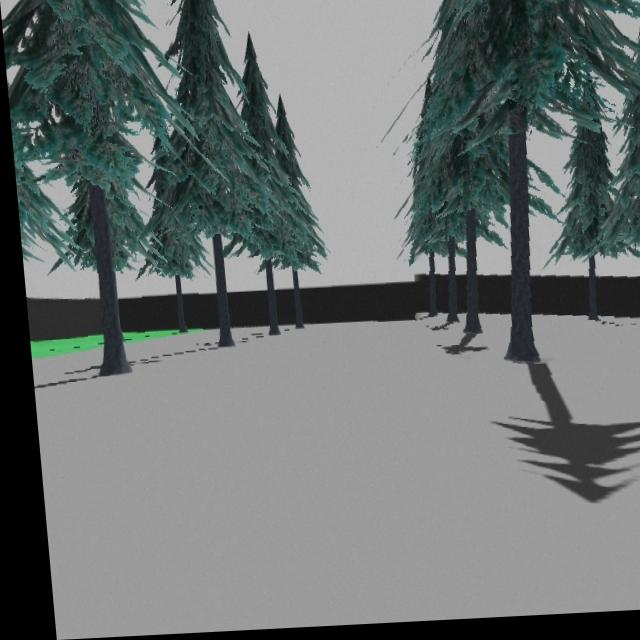tree: (408, 0, 640, 368), (1, 0, 173, 376)
